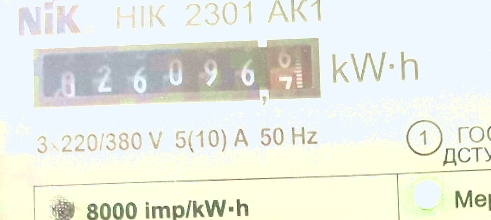0: (164, 54, 185, 90), (56, 66, 78, 99)
2: (92, 61, 115, 97)
6: (129, 62, 150, 97), (237, 55, 256, 88), (274, 43, 294, 71)
7: (276, 72, 295, 94)
9: (200, 56, 220, 89)
screen: (21, 28, 329, 121)
